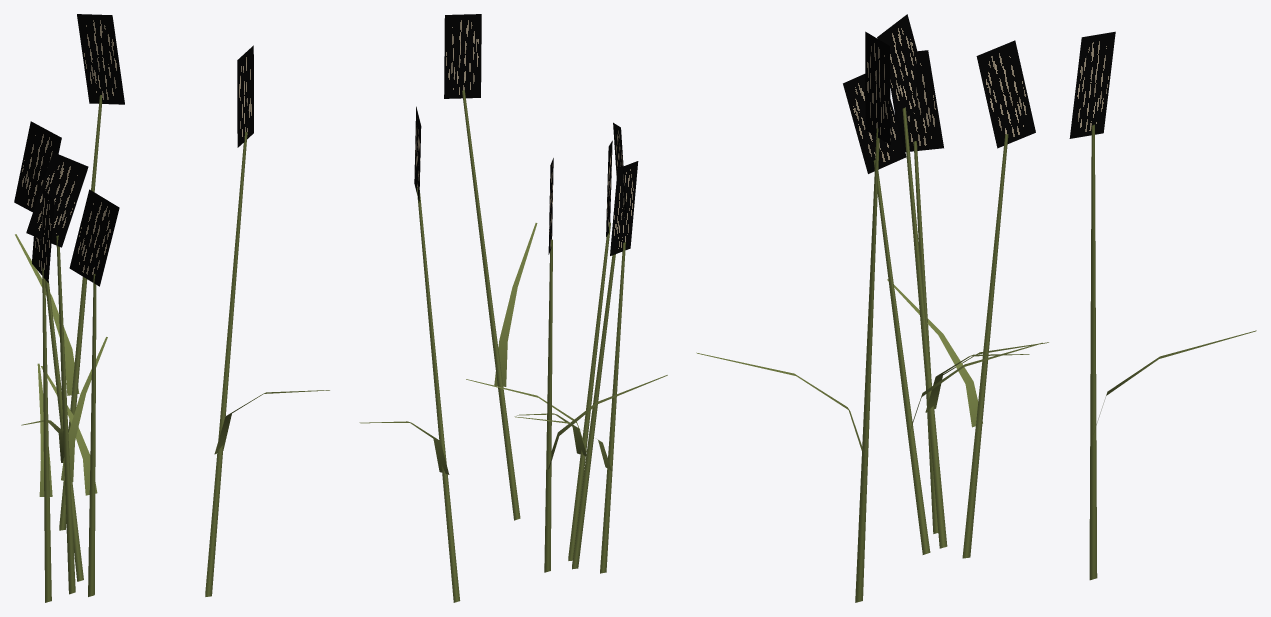
The model's file is caral_cana_brava_lod1.glb.
3 views of the same model, side by side, from view 1: azimuth 30°, elevation 25°; view 2: azimuth 150°, elevation 25°; view 3: azimuth 270°, elevation 25° (orthographic). The views are drawn at different scales.
Visible parts, largest first — view 1: GEO-Kit_cana_brava_LOD1; view 2: GEO-Kit_cana_brava_LOD1; view 3: GEO-Kit_cana_brava_LOD1.
Part boxes in pixels (x1,y1,x2,y2): GEO-Kit_cana_brava_LOD1: [14, 14, 329, 602]; GEO-Kit_cana_brava_LOD1: [359, 14, 667, 602]; GEO-Kit_cana_brava_LOD1: [696, 14, 1256, 602].
Bounding box in the file's own units: 2.09 × 4.47 × 3.86.
Materials: 2 (1 with a texture image).
